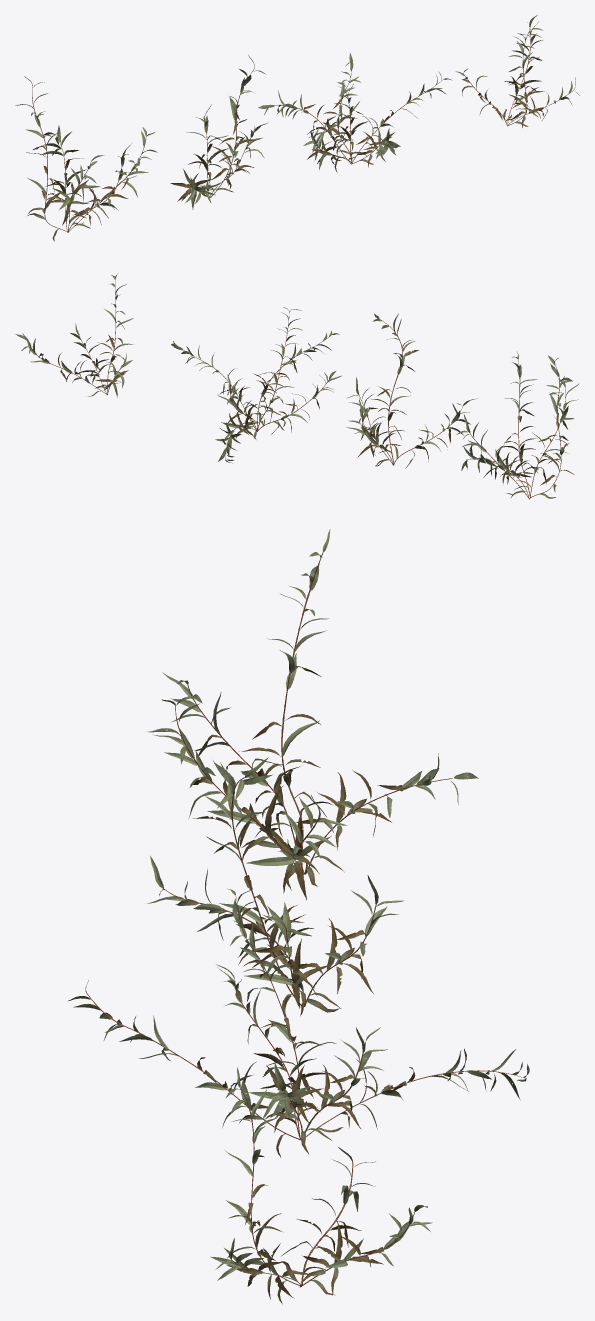
File: shrub_02.glb
3 renders of one model, top to bottom at view 1: azimuth 30°, elevation 25°; view 2: azimuth 150°, elevation 25°; view 3: azimuth 270°, elevation 25°, orthographic. The views are drawn at different scales.
Parts seen in each view (by area): view 1: shrub_02_c, shrub_02_a, shrub_02_b, shrub_02_d; view 2: shrub_02_c, shrub_02_a, shrub_02_b, shrub_02_d; view 3: shrub_02_a, shrub_02_c, shrub_02_b, shrub_02_d.
Part boxes in pixels (<box>): shrub_02_c: <box>258,53,452,172</box>; shrub_02_a: <box>15,76,157,241</box>; shrub_02_b: <box>170,55,268,209</box>; shrub_02_d: <box>455,15,579,127</box>; shrub_02_c: <box>171,307,341,463</box>; shrub_02_a: <box>456,351,579,499</box>; shrub_02_b: <box>346,313,477,468</box>; shrub_02_d: <box>15,274,134,397</box>; shrub_02_a: <box>147,529,478,900</box>; shrub_02_c: <box>67,888,529,1157</box>; shrub_02_b: <box>147,757,404,1018</box>; shrub_02_d: <box>210,1067,432,1304</box>.
Size of the model in its own units: 2 by 0.5625 by 0.7549.
1 material, 1 textured.
